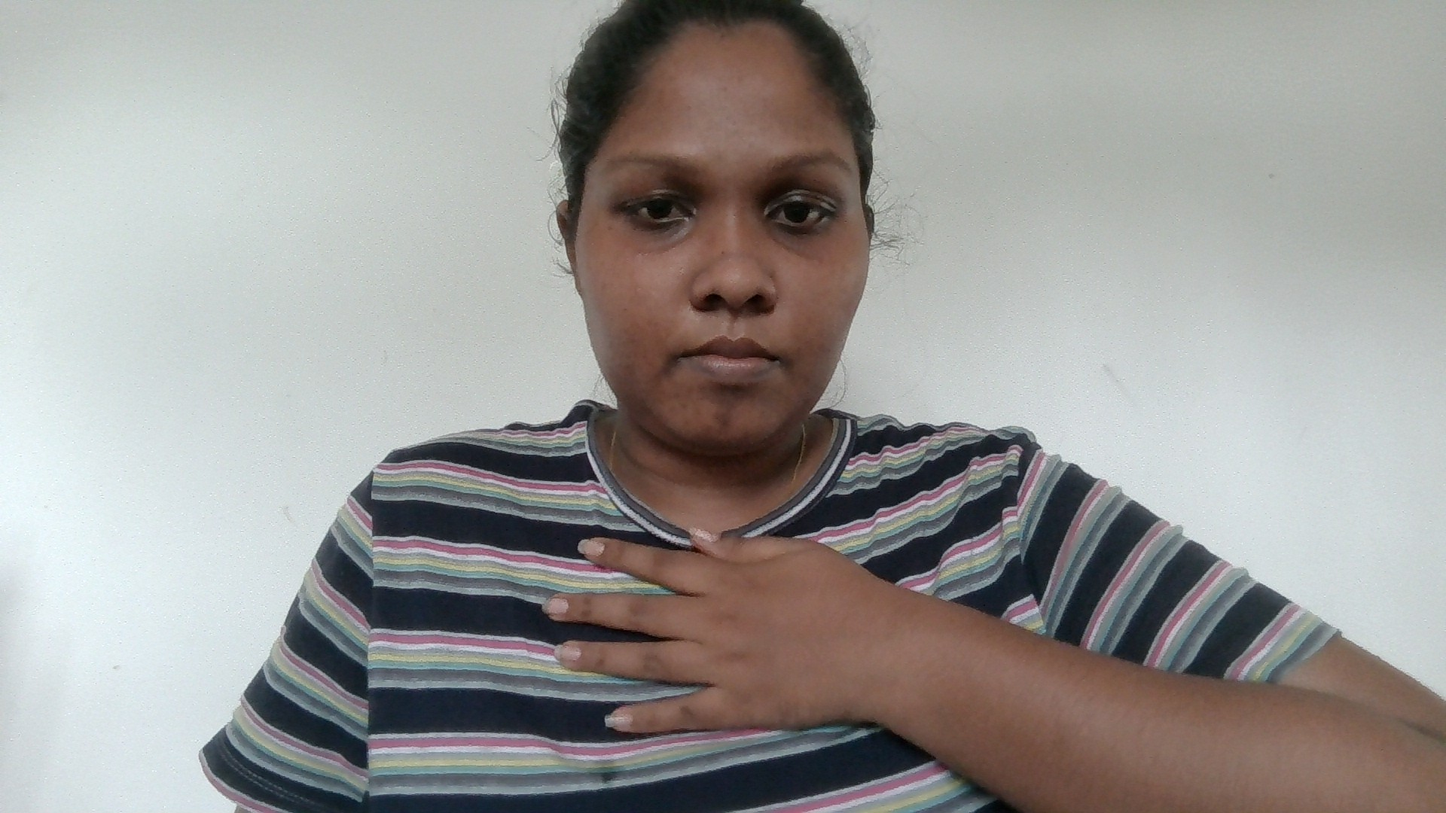Please: (501, 486, 941, 772)
